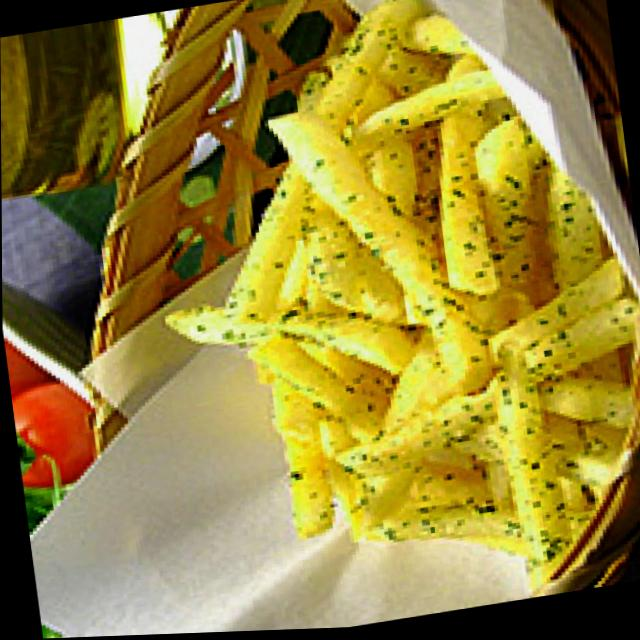炸货点心: (113, 0, 640, 614)
